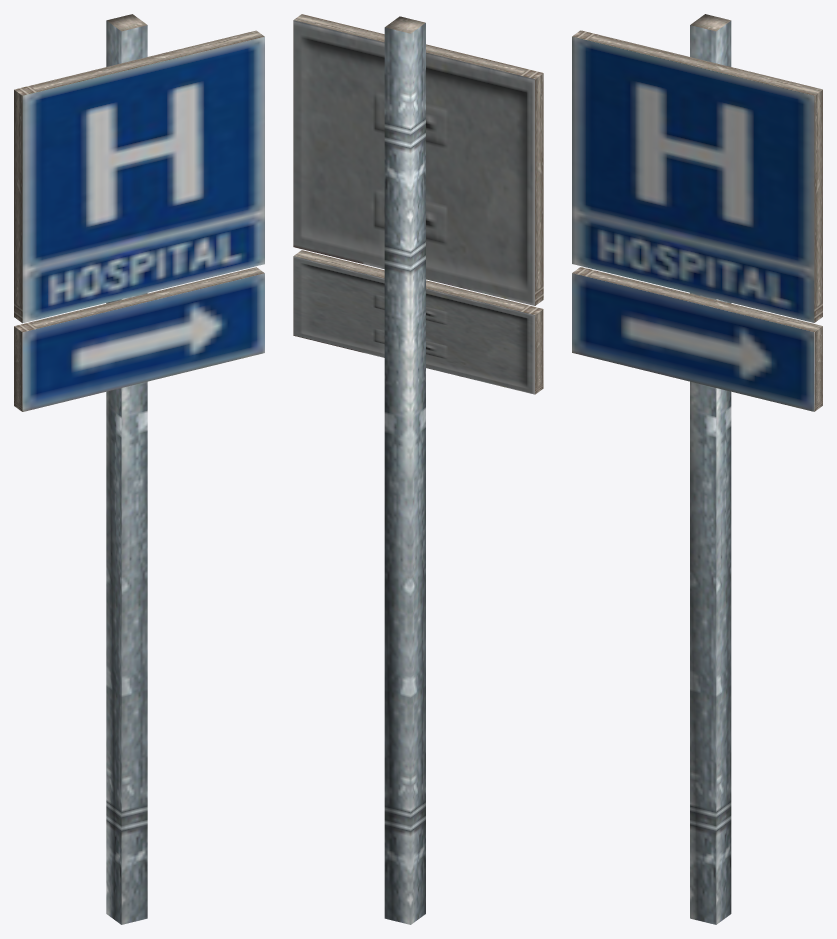
File: Model_StreetSign_12.fbx
The picture shows the model from 3 angles, left to right: view 1: azimuth 30°, elevation 25°; view 2: azimuth 150°, elevation 25°; view 3: azimuth 330°, elevation 25°; orthographic projection.
Visible parts, largest first — view 1: StreetSign_12; view 2: StreetSign_12; view 3: StreetSign_12.
Part boxes in pixels (x1,y1,x2,y2): StreetSign_12: [14, 14, 264, 924]; StreetSign_12: [293, 14, 543, 924]; StreetSign_12: [572, 14, 822, 924].
Bounding box in the file's own units: 59.59 × 210 × 10.5.
